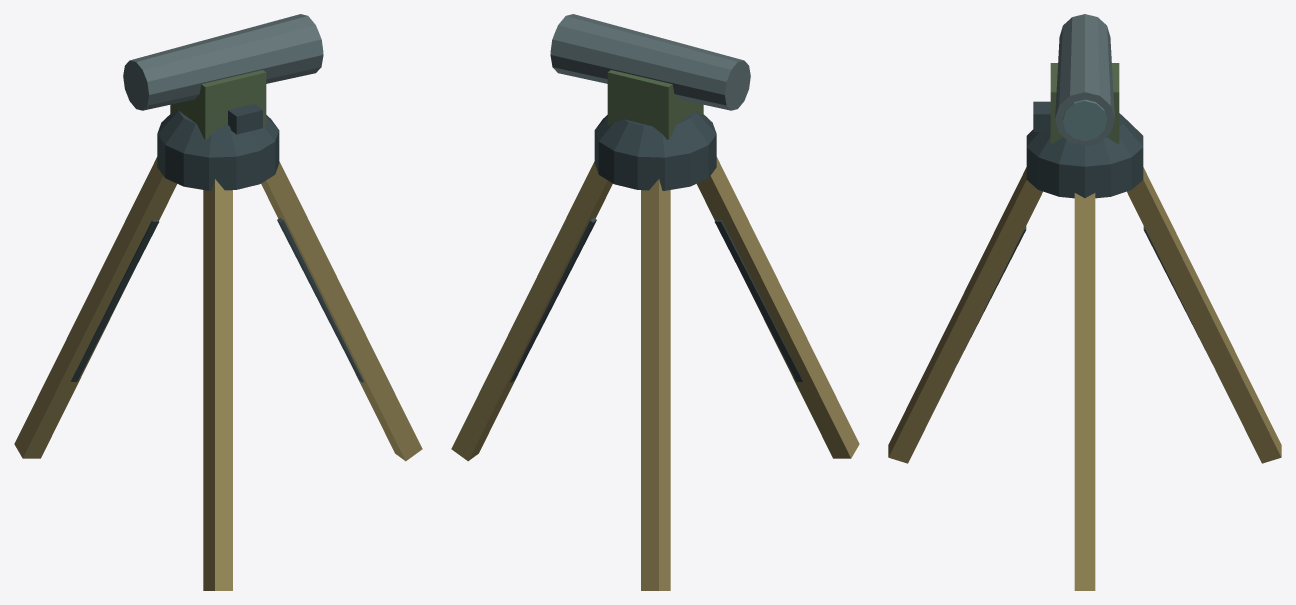
The model's file is Prop_Daily_SurveyTripod_001.glb.
3 views of the same model, side by side, from view 1: azimuth 30°, elevation 25°; view 2: azimuth 150°, elevation 25°; view 3: azimuth 270°, elevation 25° (orthographic). The views are drawn at different scales.
Parts seen in each view (by area): view 1: Prop_Daily_SurveyTripod_001; view 2: Prop_Daily_SurveyTripod_001; view 3: Prop_Daily_SurveyTripod_001.
Part boxes in pixels (x1,y1,x2,y2): Prop_Daily_SurveyTripod_001: (14, 14, 422, 590); Prop_Daily_SurveyTripod_001: (451, 14, 859, 590); Prop_Daily_SurveyTripod_001: (888, 14, 1281, 590).
Bounding box in the file's own units: 1.15 × 1.68 × 1.31.
